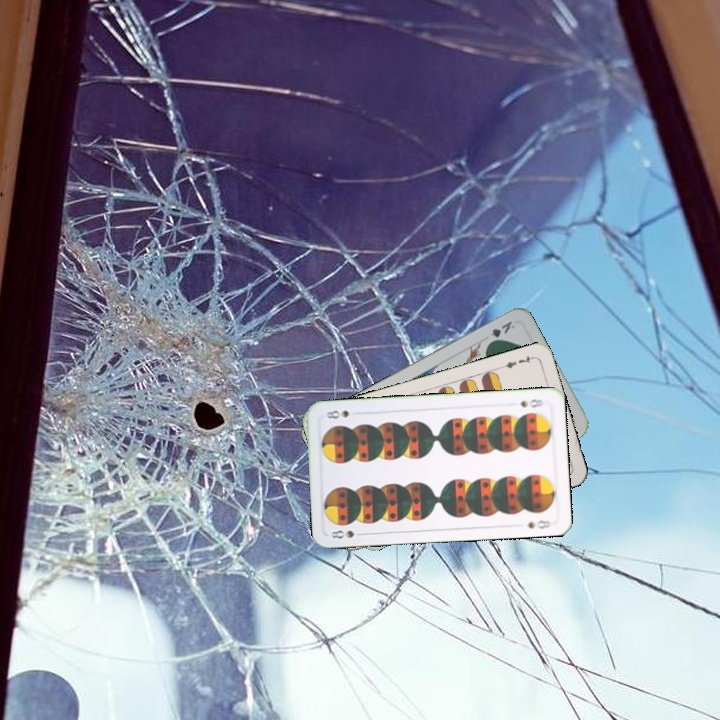E7: (497, 352, 537, 371)
GK: (483, 317, 518, 347)
S8: (327, 526, 367, 542), (516, 395, 545, 410)
